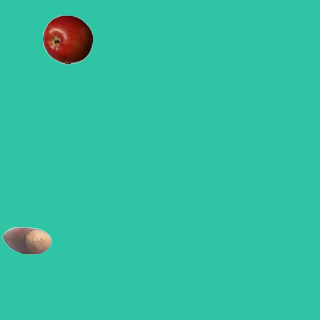Apple Braeburn: (42, 14, 92, 64)
Hazelnut: (1, 215, 51, 265)
